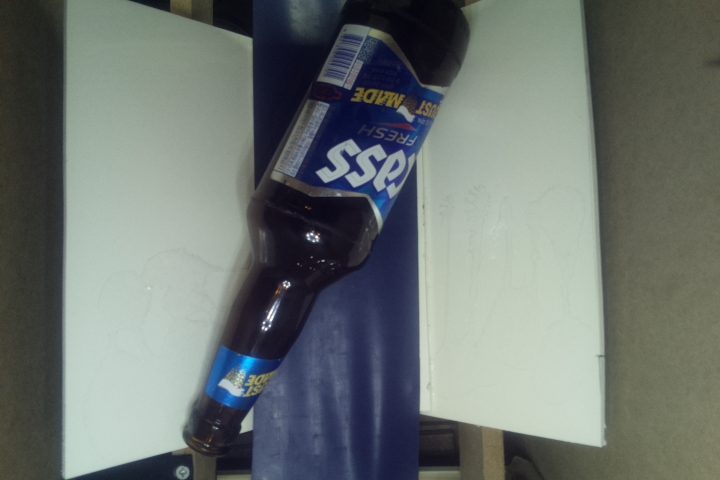makju: (182, 1, 480, 460)
